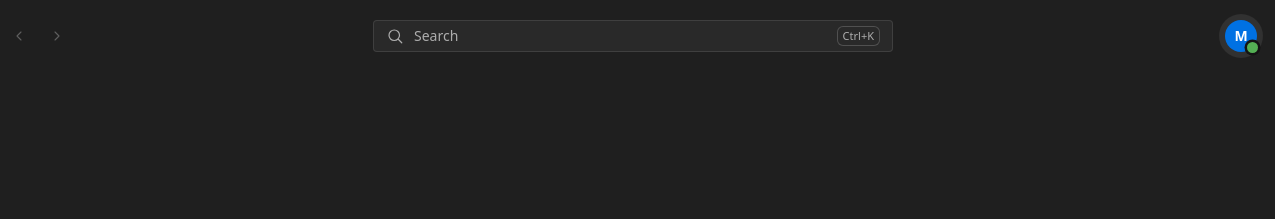
Scenario: prefers the live friendship state over the search snapshot
This screenshot has width=1275, height=219.
Type "bob" into the field labelled "Search". click: (620, 36)
box: x1=414 y1=26 x2=827 y2=46
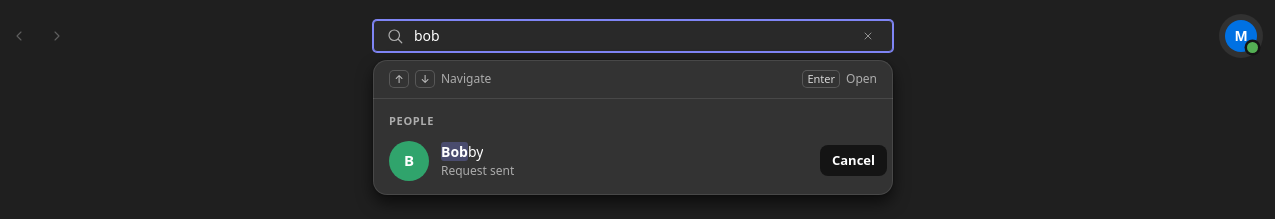
Now the text "Request sent" is shown, box x1=441 y1=162 x2=514 y2=180
Now the button "Cancel" is shown, box x1=820 y1=146 x2=887 y2=176
